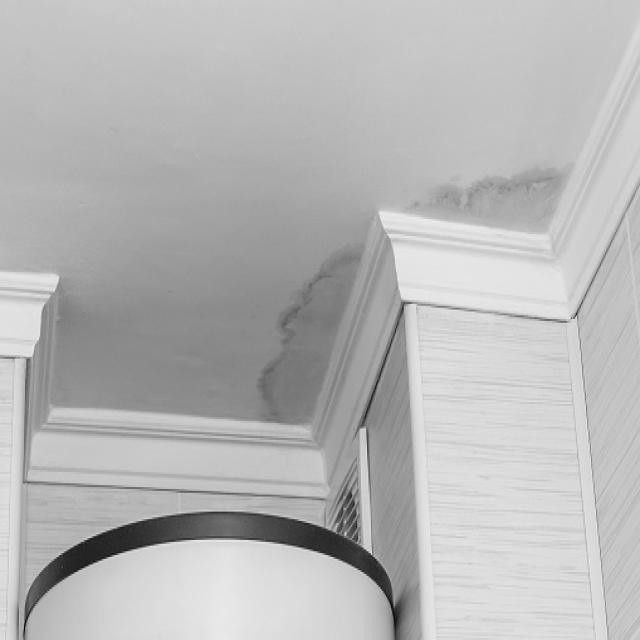stain marks: (254, 244, 362, 426), (401, 164, 575, 242)
